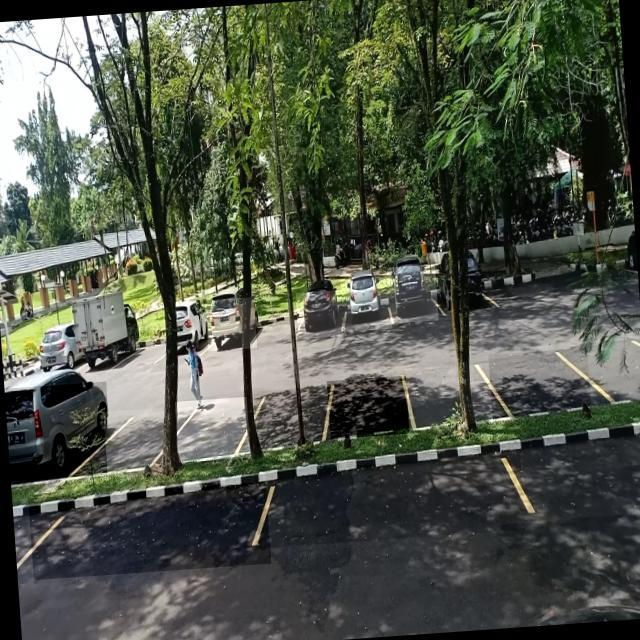empty: (254, 453, 526, 548), (28, 481, 271, 580), (488, 348, 591, 419), (404, 362, 494, 428), (326, 376, 410, 439), (174, 397, 250, 462), (252, 386, 334, 446), (103, 408, 167, 476), (250, 306, 302, 346)
occupied: (4, 381, 112, 481), (386, 264, 438, 323), (204, 296, 257, 351), (341, 276, 392, 332), (296, 290, 346, 339)
